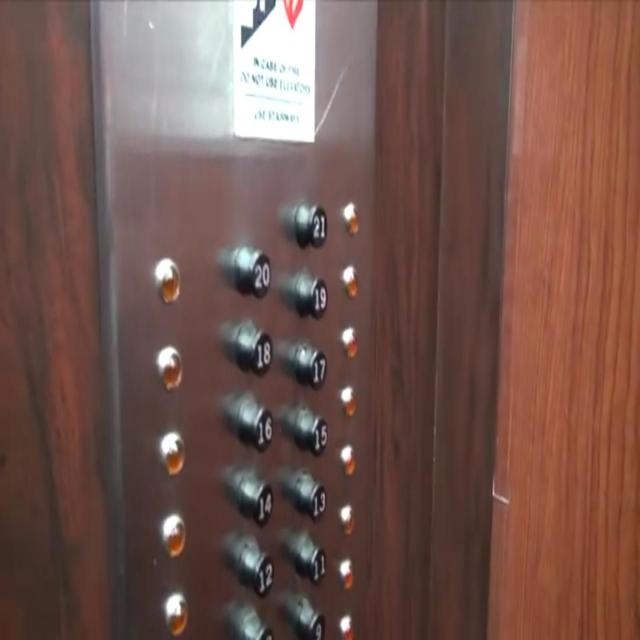11: (292, 537, 328, 582)
12: (236, 543, 274, 600)
13: (292, 468, 330, 522)
14: (236, 471, 275, 527)
15: (290, 404, 328, 459)
16: (235, 396, 277, 450)
17: (292, 343, 328, 391)
18: (236, 319, 274, 378)
19: (293, 274, 329, 320)
20: (231, 242, 273, 301)
21: (293, 202, 327, 250)
indicator: (152, 256, 181, 308), (161, 589, 187, 639), (156, 343, 184, 389), (160, 510, 186, 558), (159, 428, 185, 474), (339, 265, 361, 299), (342, 199, 360, 239), (338, 384, 358, 420), (339, 324, 359, 358), (338, 501, 356, 534), (340, 444, 356, 476), (338, 557, 353, 591), (338, 610, 355, 639)
